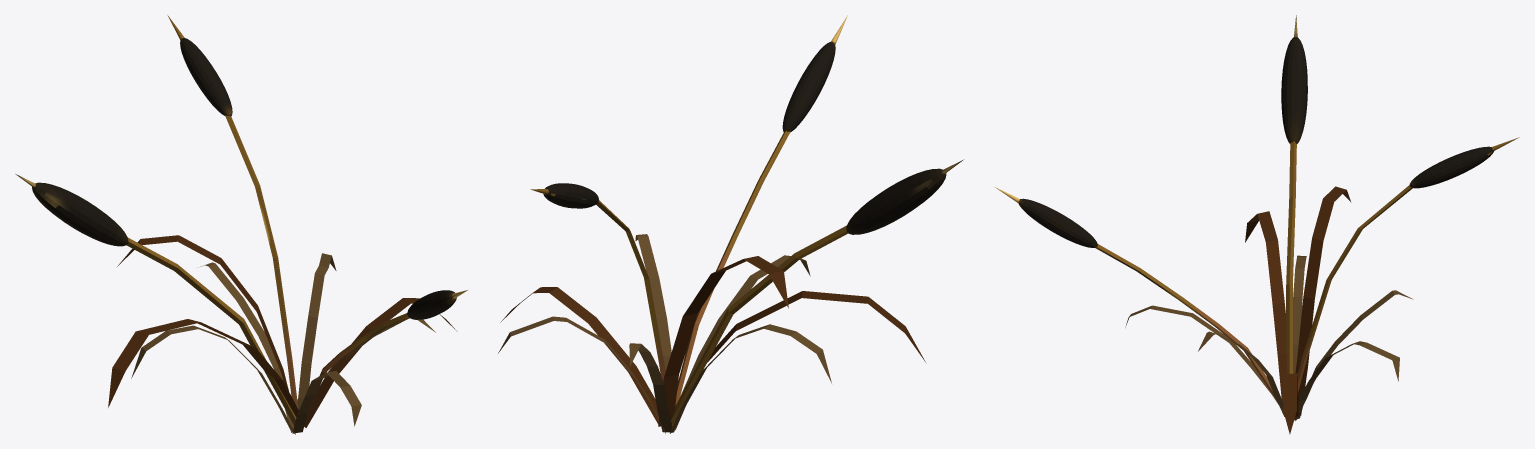
Rendered from DeadBulrush.glb.
3 views of the same model, side by side, from view 1: azimuth 30°, elevation 25°; view 2: azimuth 150°, elevation 25°; view 3: azimuth 270°, elevation 25° (orthographic). The views are drawn at different scales.
Parts seen in each view (by area): view 1: Plane.007, Plane, Sphere, Cylinder.001, Cylinder.002; view 2: Plane, Plane.007, Sphere, Cylinder.002, Cylinder.001; view 3: Plane, Sphere, Plane.007, Cylinder.001, Cylinder.002.
Boxes of the visible parts, bbox=[...] form: Plane.007: bbox=[131, 253, 435, 434]; Plane: bbox=[108, 235, 457, 427]; Sphere: bbox=[15, 174, 296, 425]; Cylinder.001: bbox=[167, 15, 298, 408]; Cylinder.002: bbox=[300, 290, 467, 428]; Plane: bbox=[500, 256, 926, 426]; Plane.007: bbox=[498, 234, 831, 433]; Sphere: bbox=[671, 159, 963, 424]; Cylinder.002: bbox=[675, 15, 847, 405]; Cylinder.001: bbox=[530, 183, 665, 381]; Plane: bbox=[1245, 186, 1351, 434]; Sphere: bbox=[1281, 15, 1307, 373]; Plane.007: bbox=[1125, 255, 1413, 420]; Cylinder.001: bbox=[1297, 137, 1519, 392]; Cylinder.002: bbox=[995, 187, 1276, 400].
Size of the model in its own units: 6.63 by 4.68 by 7.83.
Materials: 5 (5 with a texture image).
